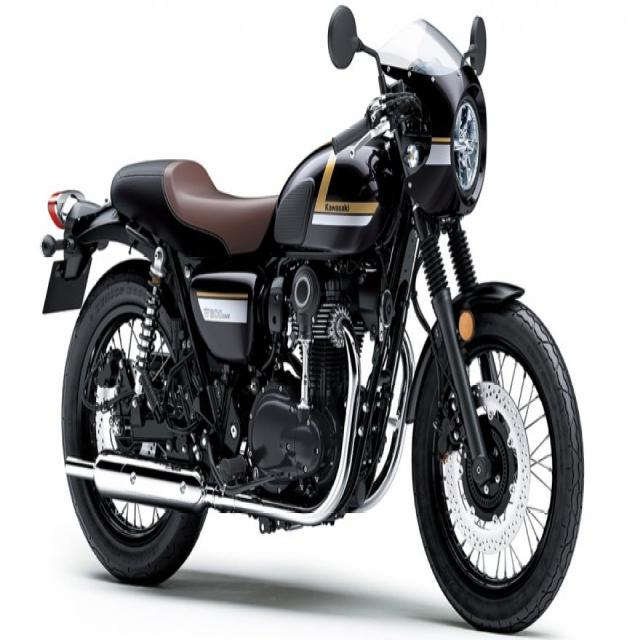Bike: (41, 7, 584, 631)
